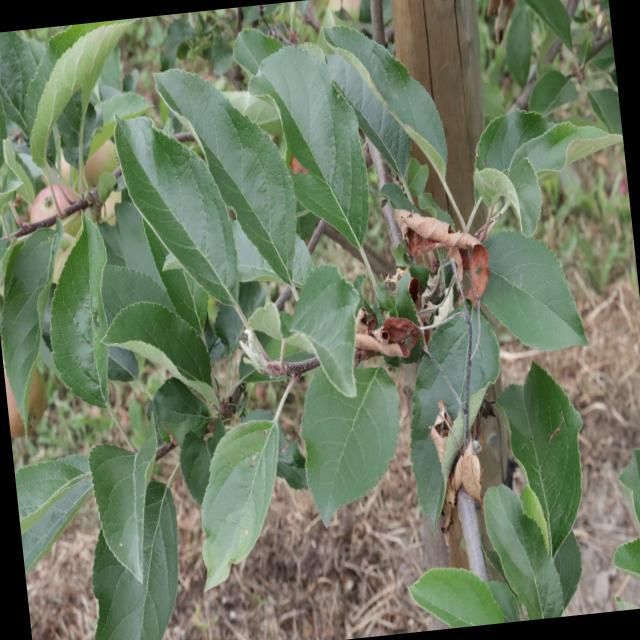-FireBlight-: (398, 196, 502, 306), (325, 293, 444, 370), (430, 405, 490, 507)
